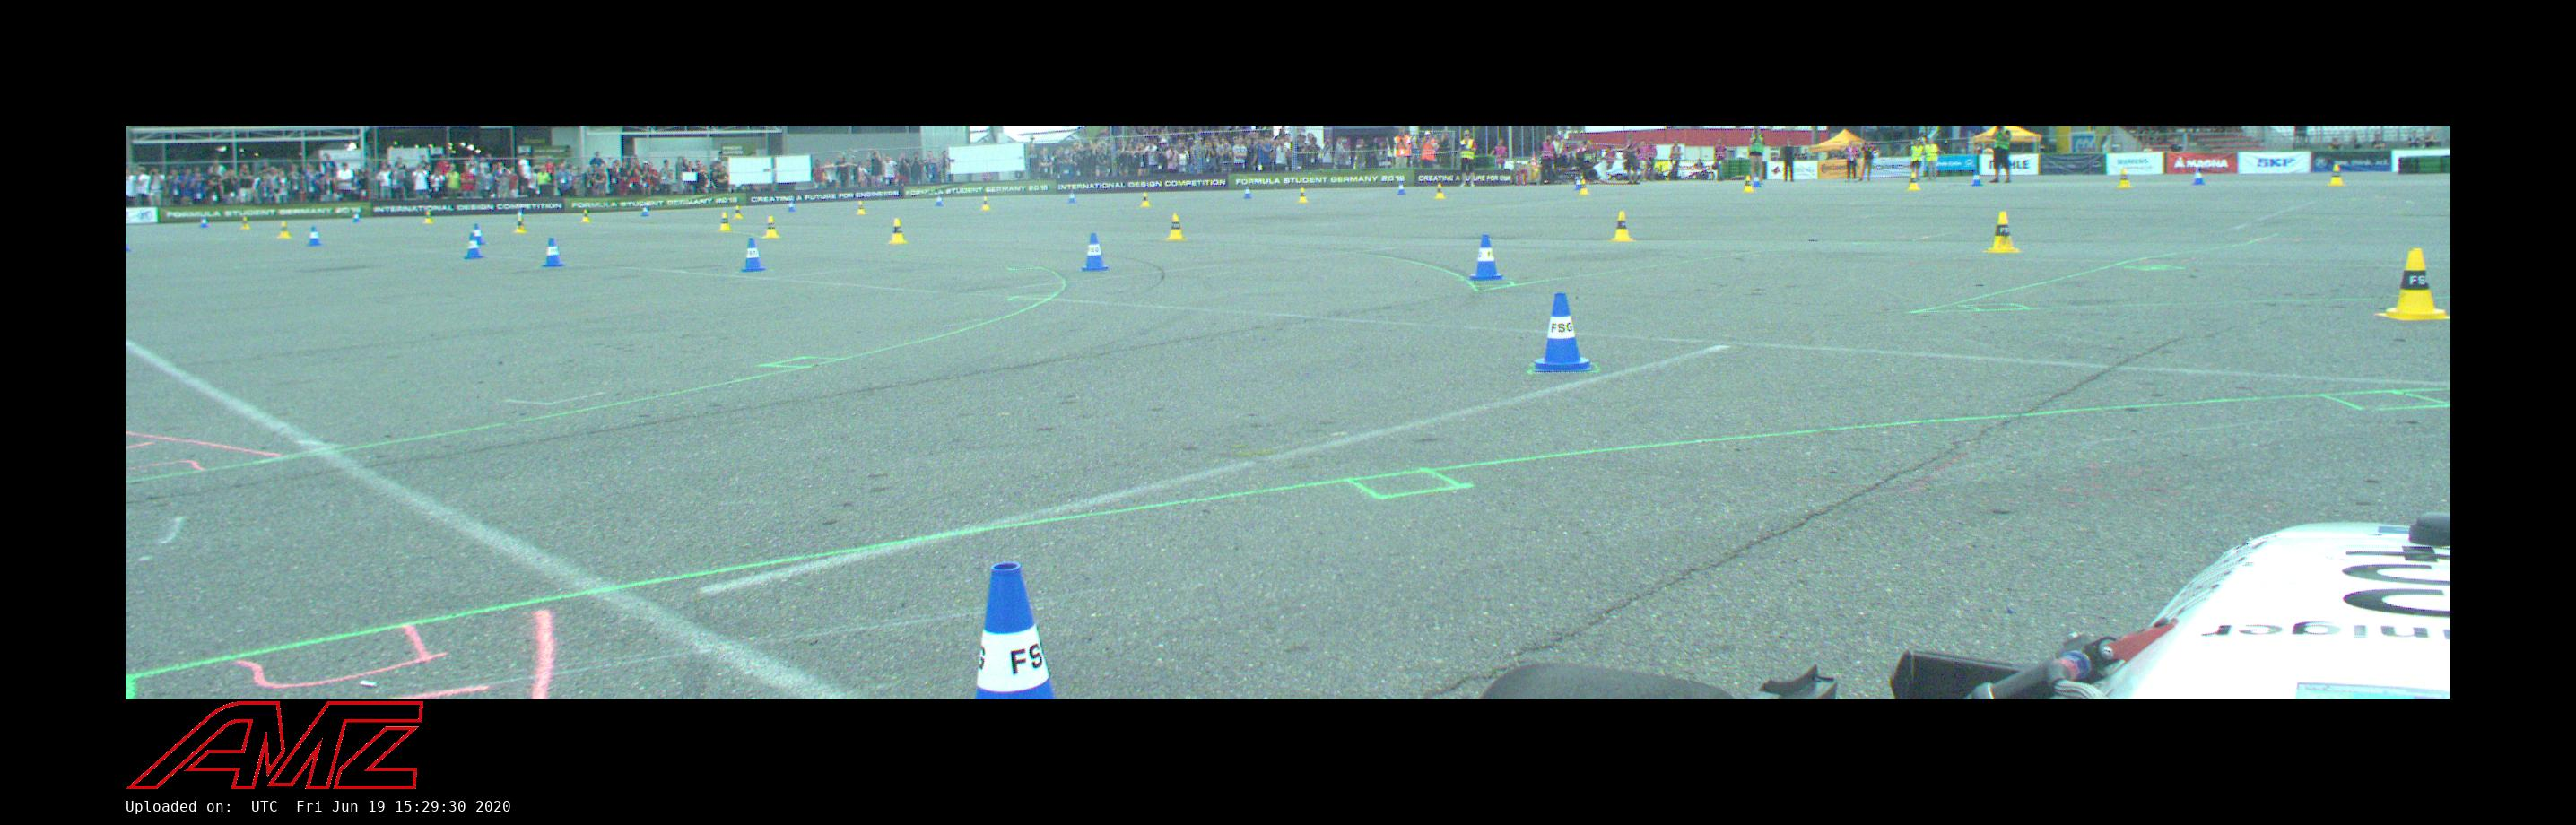blue_cone: (974, 562, 1056, 700), (1531, 293, 1594, 371), (1469, 235, 1505, 281), (1079, 232, 1109, 271), (739, 237, 767, 271), (540, 237, 565, 266), (463, 232, 485, 260), (307, 225, 322, 247), (473, 224, 485, 245), (1970, 168, 1983, 186), (2192, 166, 2205, 184), (1066, 189, 1078, 204), (1751, 171, 1761, 186), (933, 194, 943, 207), (1396, 181, 1406, 194), (1244, 184, 1252, 199), (1576, 176, 1582, 189)
yellow_cone: (2377, 250, 2446, 320), (1983, 210, 2019, 253), (1612, 210, 1635, 242), (1166, 212, 1186, 242), (889, 219, 909, 243), (2116, 166, 2134, 189), (764, 215, 780, 238), (2328, 164, 2344, 186), (718, 212, 731, 232), (1907, 171, 1921, 191), (1741, 174, 1755, 192), (278, 220, 291, 238), (1296, 187, 1309, 202), (1434, 182, 1446, 199), (733, 204, 744, 219), (1140, 191, 1150, 207), (1577, 181, 1589, 194), (981, 196, 991, 210), (856, 200, 866, 214)
